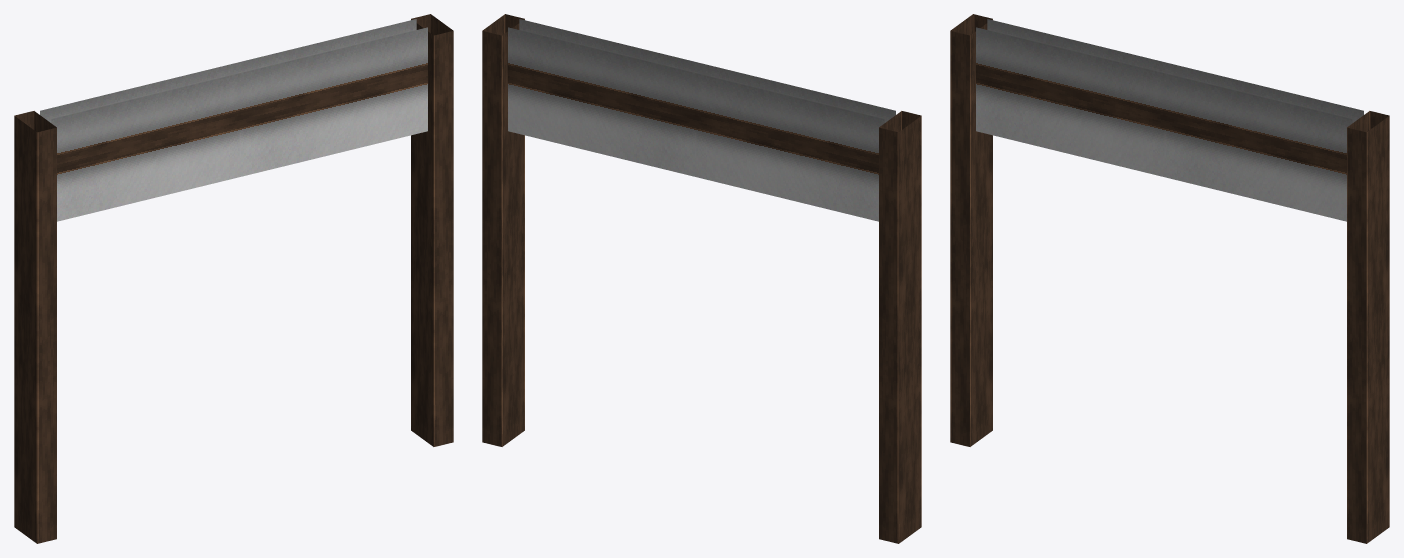
The model's file is house_enterance_4x4.glb.
The picture shows the model from 3 angles, left to right: view 1: azimuth 30°, elevation 25°; view 2: azimuth 150°, elevation 25°; view 3: azimuth 330°, elevation 25°; orthographic projection.
Visible parts, largest first — view 1: house_enterance_4x4; view 2: house_enterance_4x4; view 3: house_enterance_4x4.
Boxes of the visible parts, left/top/right/bottom form: house_enterance_4x4: left=14, top=14, right=453, bottom=543; house_enterance_4x4: left=482, top=14, right=921, bottom=543; house_enterance_4x4: left=950, top=14, right=1389, bottom=543.
Size of the model in its own units: 4.19 by 4 by 0.4.
Materials: 2 (2 with a texture image).
